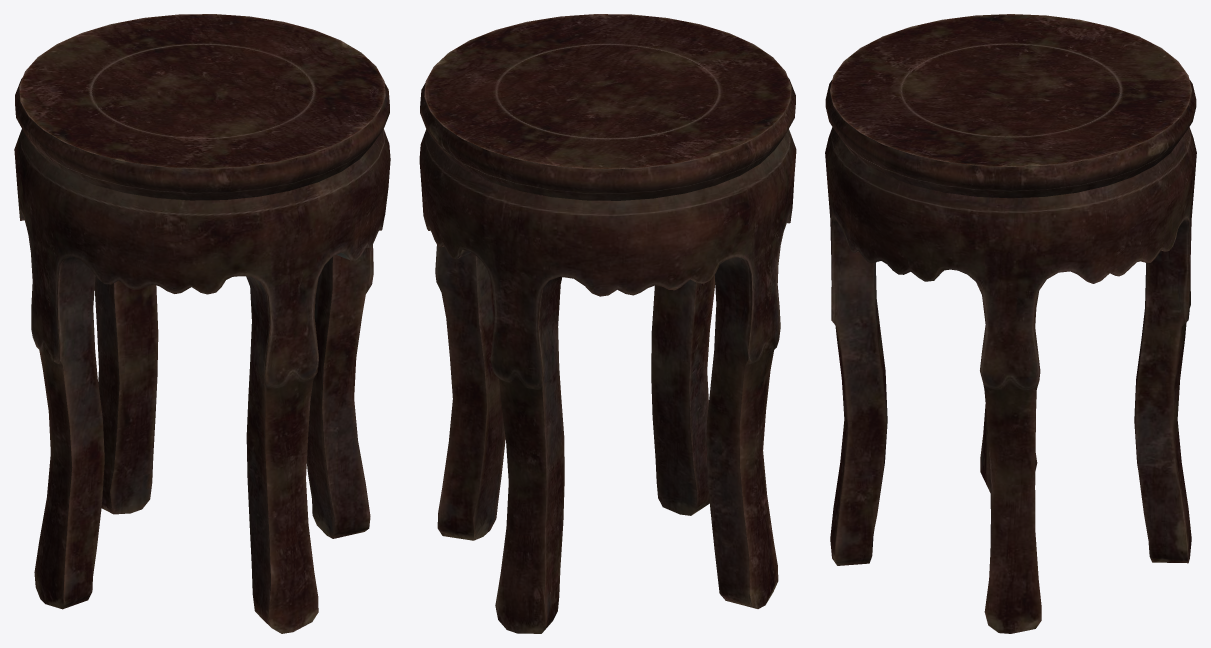
Rendered from WoodenTable_02.glb.
3 renders of one model, left to right at view 1: azimuth 30°, elevation 25°; view 2: azimuth 150°, elevation 25°; view 3: azimuth 270°, elevation 25°, orthographic.
Parts seen in each view (by area): view 1: WoodenTable_02; view 2: WoodenTable_02; view 3: WoodenTable_02.
Part boxes in pixels (left/top/right/bottom): WoodenTable_02: left=14, top=14, right=390, bottom=633; WoodenTable_02: left=419, top=14, right=796, bottom=633; WoodenTable_02: left=825, top=14, right=1196, bottom=633.
Size of the model in its own units: 0.3007 by 0.4177 by 0.3007.
Materials: 1 (1 with a texture image).
